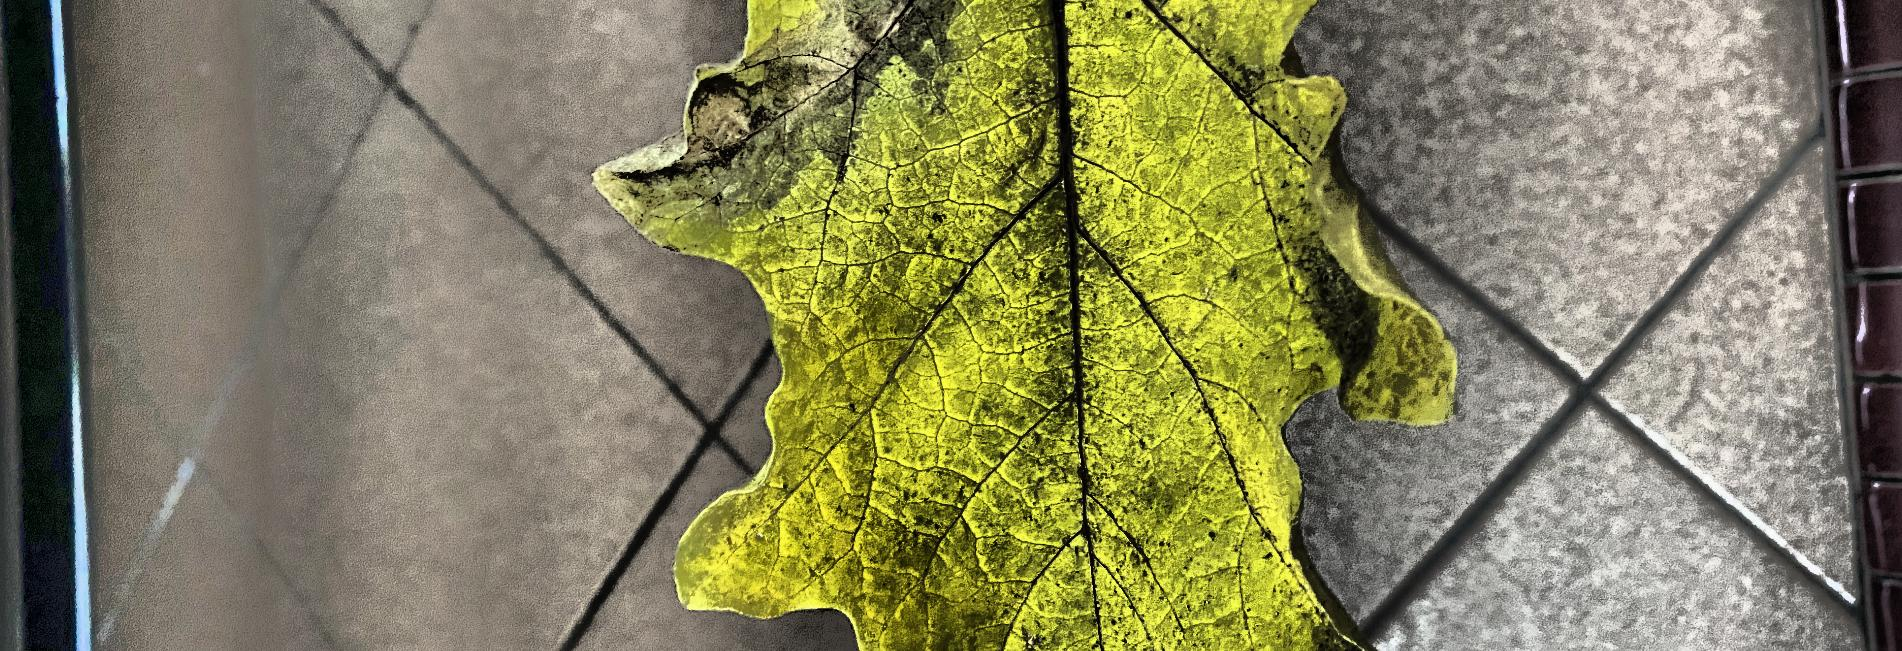Critical Stress: (0, 158, 1417, 651)
